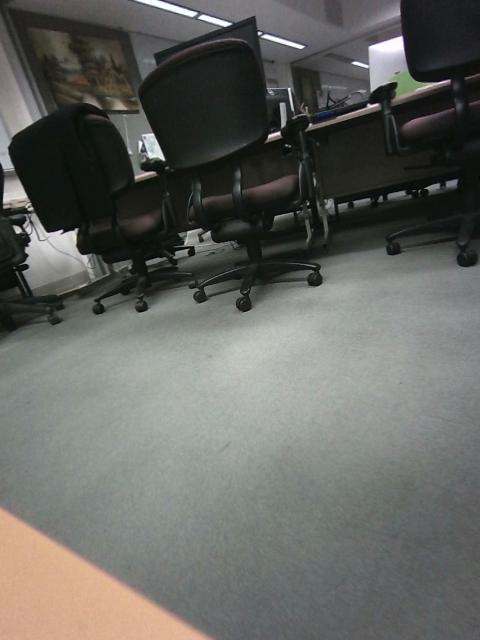block: (142, 337, 191, 375)
